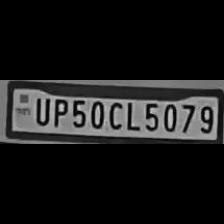0: (87, 96, 105, 128), (160, 100, 178, 132)
5: (68, 96, 86, 128), (141, 99, 159, 131)
7: (178, 101, 195, 133)
9: (196, 102, 214, 134)
C: (106, 98, 122, 130)
L: (123, 97, 139, 130)
P: (49, 96, 67, 127)
U: (32, 94, 50, 126)
